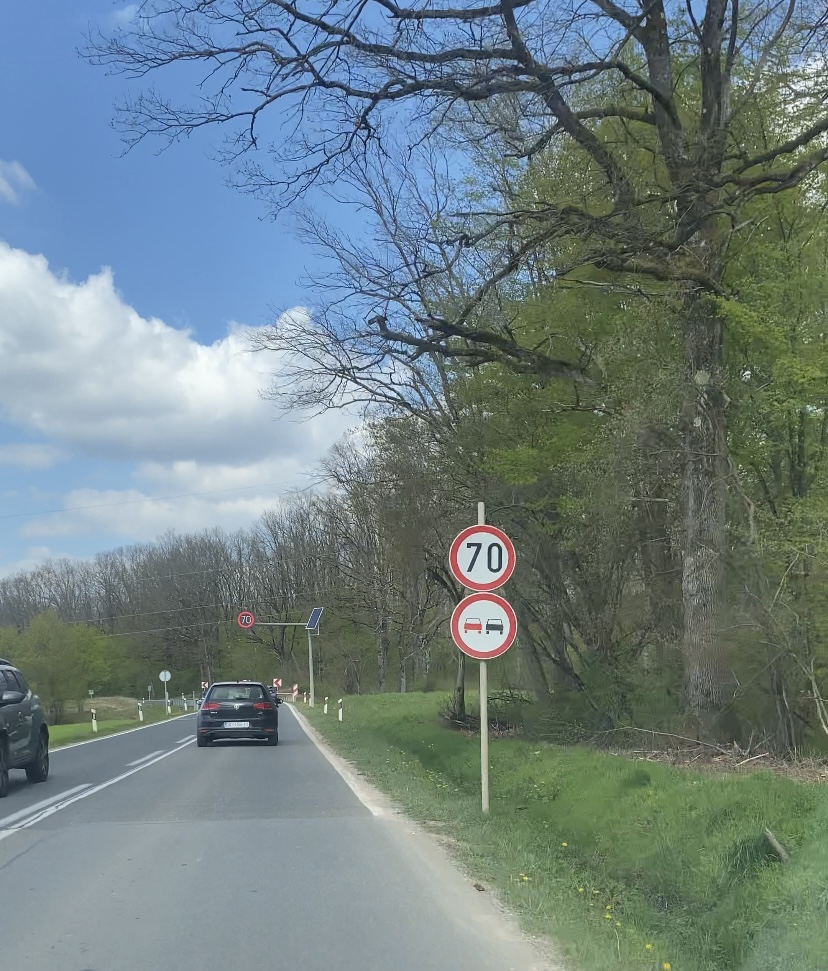Ograničenje brzine 70: (448, 524, 516, 591)
Zabrana pretjecanja: (450, 592, 518, 660)
